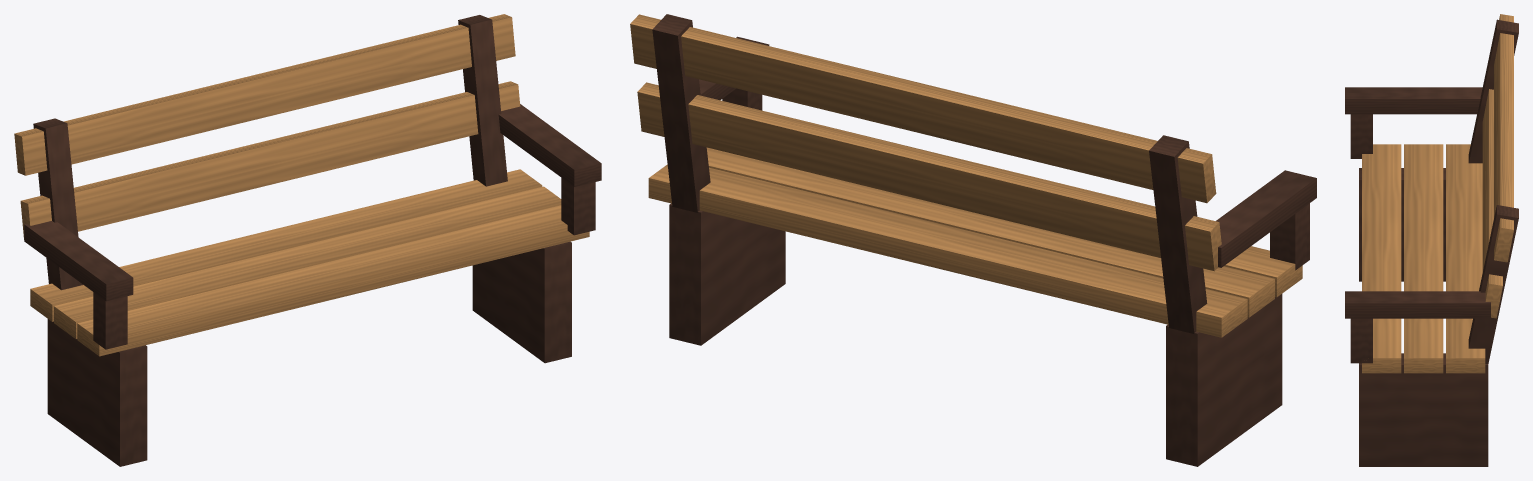
The model's file is prop_bench_01.glb.
3 renders of one model, left to right at view 1: azimuth 30°, elevation 25°; view 2: azimuth 150°, elevation 25°; view 3: azimuth 270°, elevation 25°, orthographic. The views are drawn at different scales.
Visible parts, largest first — view 1: prop_bench_01; view 2: prop_bench_01; view 3: prop_bench_01.
Part boxes in pixels (left/top/right/bottom): prop_bench_01: left=14, top=14, right=601, bottom=466; prop_bench_01: left=630, top=14, right=1316, bottom=466; prop_bench_01: left=1345, top=14, right=1518, bottom=466.
Bounding box in the file's own units: 1.82 × 0.9875 × 0.6193.
1 material, 1 textured.
